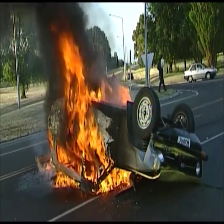fire_h: (57, 28, 114, 182), (96, 166, 131, 194), (54, 171, 80, 188)
fire_l: (118, 84, 131, 106), (47, 129, 54, 148), (45, 157, 54, 169)
